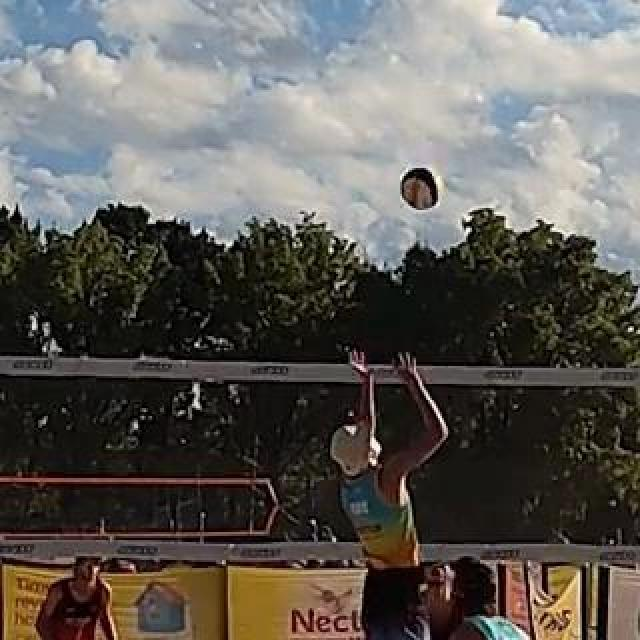volleyball: (402, 166, 444, 210)
